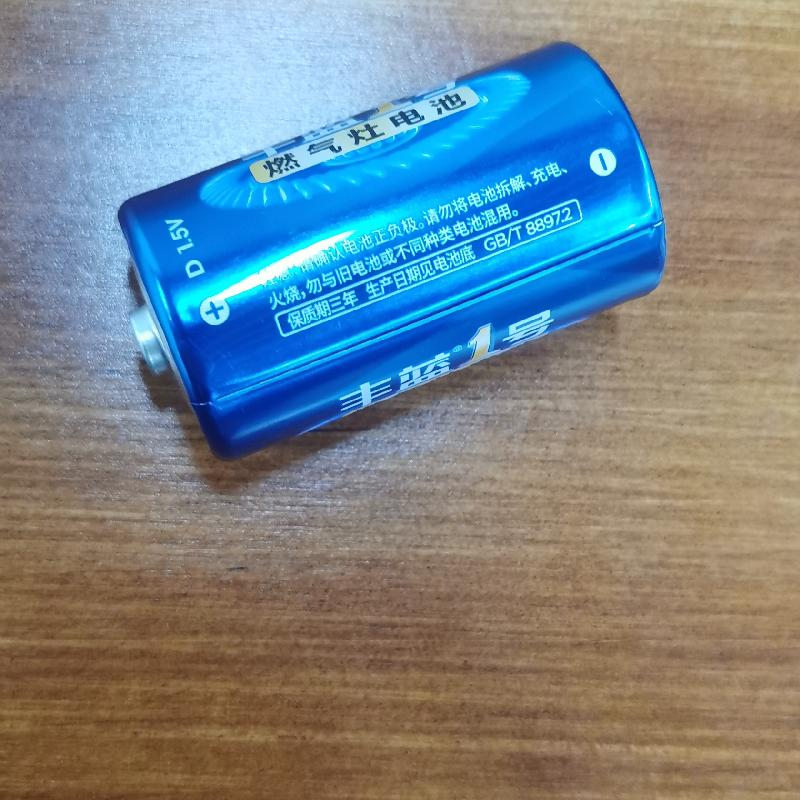battery: (91, 39, 704, 463)
